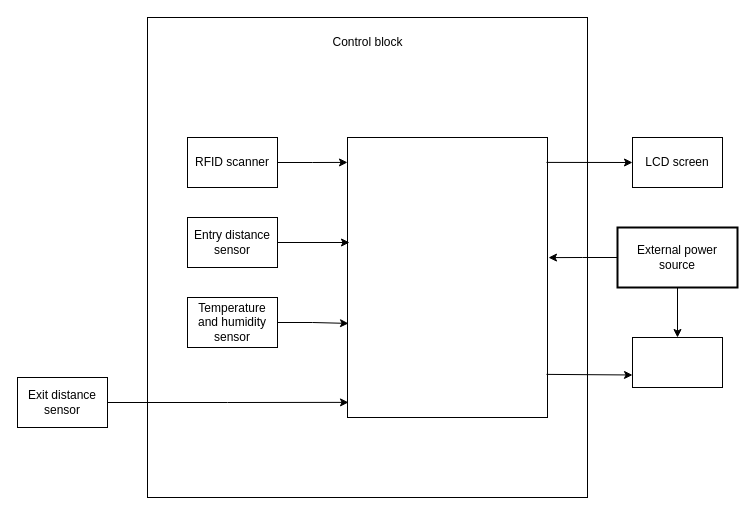
This 756x515 diagram has some shape labels left out. Here are the shapes that lost their labels. From the top down, the box of each, then its label:
(346, 136, 548, 418): MCU
(632, 336, 722, 388): Step motor
